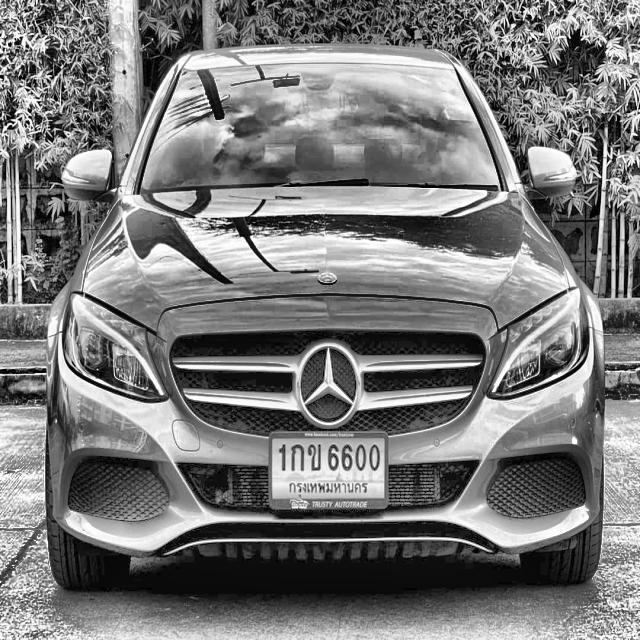license-plate: (266, 430, 389, 514)
